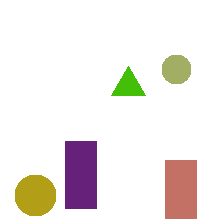circle: (15, 175, 55, 215), (162, 55, 190, 83)
rectangle: (65, 141, 96, 208), (165, 160, 196, 218)
triangle: (111, 66, 145, 95)
